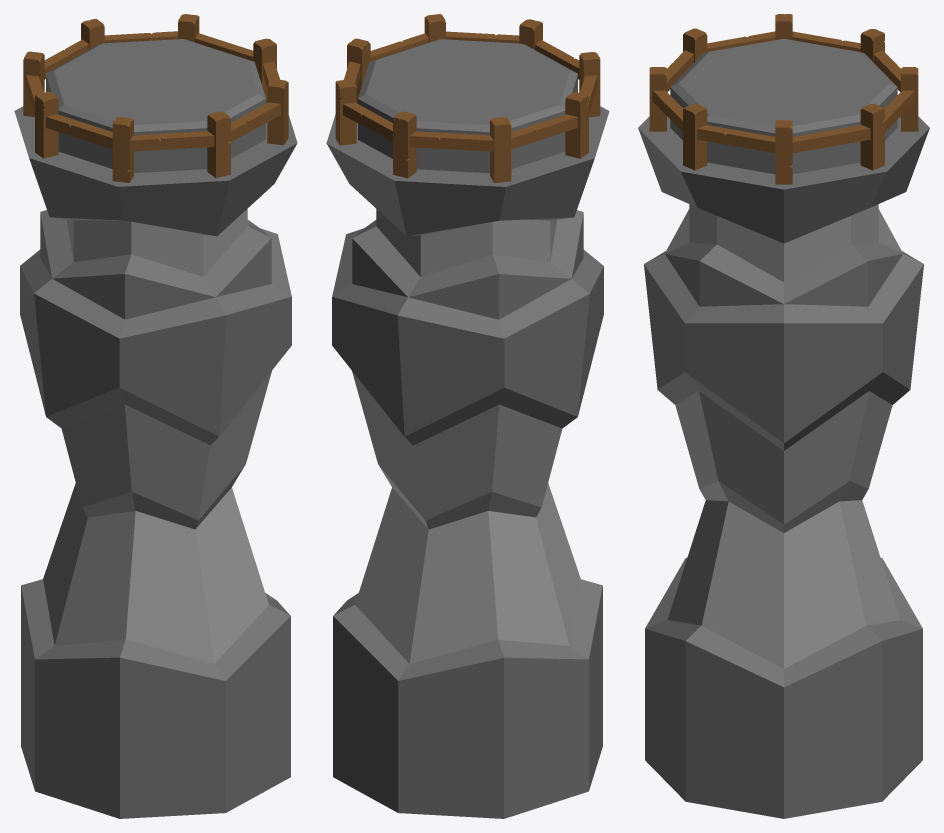
The model's file is WatchTower.fbx.
3 renders of one model, left to right at view 1: azimuth 30°, elevation 25°; view 2: azimuth 150°, elevation 25°; view 3: azimuth 270°, elevation 25°, orthographic.
Parts seen in each view (by area): view 1: WatchTower_LOD0; view 2: WatchTower_LOD0; view 3: WatchTower_LOD0.
Boxes of the visible parts, x1=… form: WatchTower_LOD0: x1=14, y1=14, x2=297, y2=818; WatchTower_LOD0: x1=326, y1=14, x2=609, y2=818; WatchTower_LOD0: x1=638, y1=14, x2=929, y2=818.
Size of what is drawn, in the model's own units: 377 by 984 by 377.
